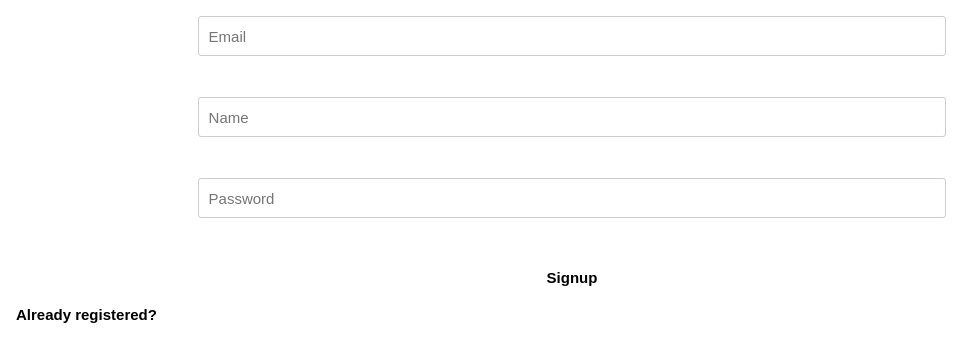
Test: Testing SIGNUP component › Should show proper validation errors if submitted data is invalid
Click the button "Signup": x=572, y=278 [198,259,946,296]
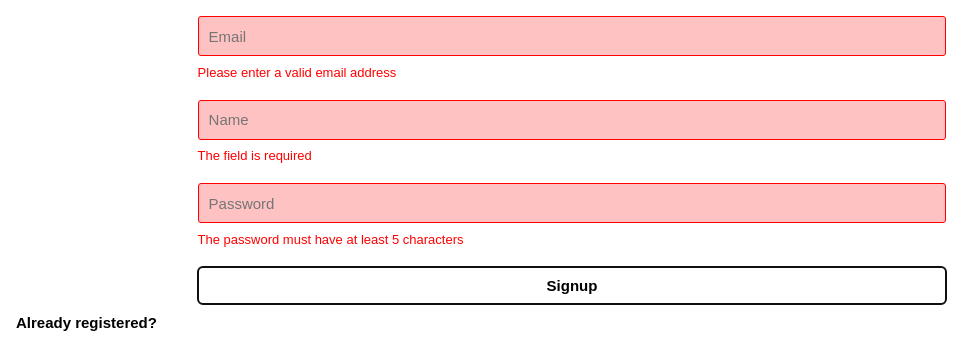
Expected: the text "Please enter a valid email address" is shown, [198,64,396,80]
Expected: the text "The password must have at least 5 characters" is shown, [198,232,464,246]
Expected: the text "The field is required" is shown, [198,148,312,163]
